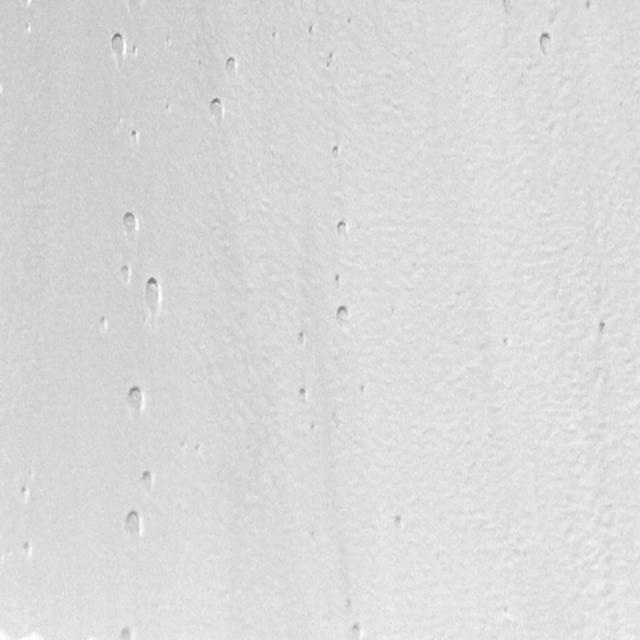pin holes: (141, 274, 166, 317), (124, 385, 148, 418), (121, 509, 145, 541), (119, 210, 142, 242), (107, 33, 129, 64), (206, 97, 227, 128), (535, 32, 557, 59), (333, 302, 354, 328), (138, 468, 158, 494), (221, 54, 241, 77), (332, 217, 352, 239), (117, 264, 136, 286), (18, 539, 36, 562), (594, 317, 612, 340), (347, 621, 366, 640), (500, 0, 518, 18), (295, 330, 311, 350), (393, 513, 409, 533), (297, 387, 312, 406), (18, 484, 32, 504), (118, 625, 136, 640), (330, 143, 345, 161), (98, 313, 111, 332), (325, 51, 338, 69), (305, 22, 319, 38), (130, 128, 142, 146), (332, 272, 345, 288), (501, 335, 514, 351), (581, 0, 597, 13), (308, 419, 320, 435), (358, 382, 370, 398), (128, 45, 140, 60), (344, 16, 356, 30), (269, 27, 280, 41), (23, 22, 33, 37), (22, 0, 34, 10), (163, 101, 172, 114)
